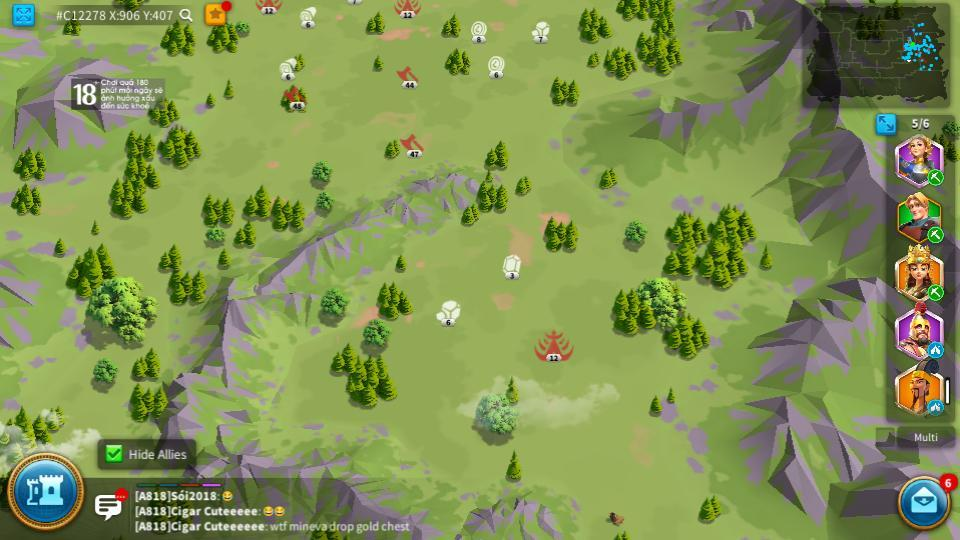gem-z-out: (503, 254, 523, 278)
march_farming: (928, 170, 944, 186), (928, 285, 944, 301), (928, 227, 943, 243)
march_idle: (927, 401, 944, 415), (929, 343, 942, 356), (918, 64, 932, 72)
